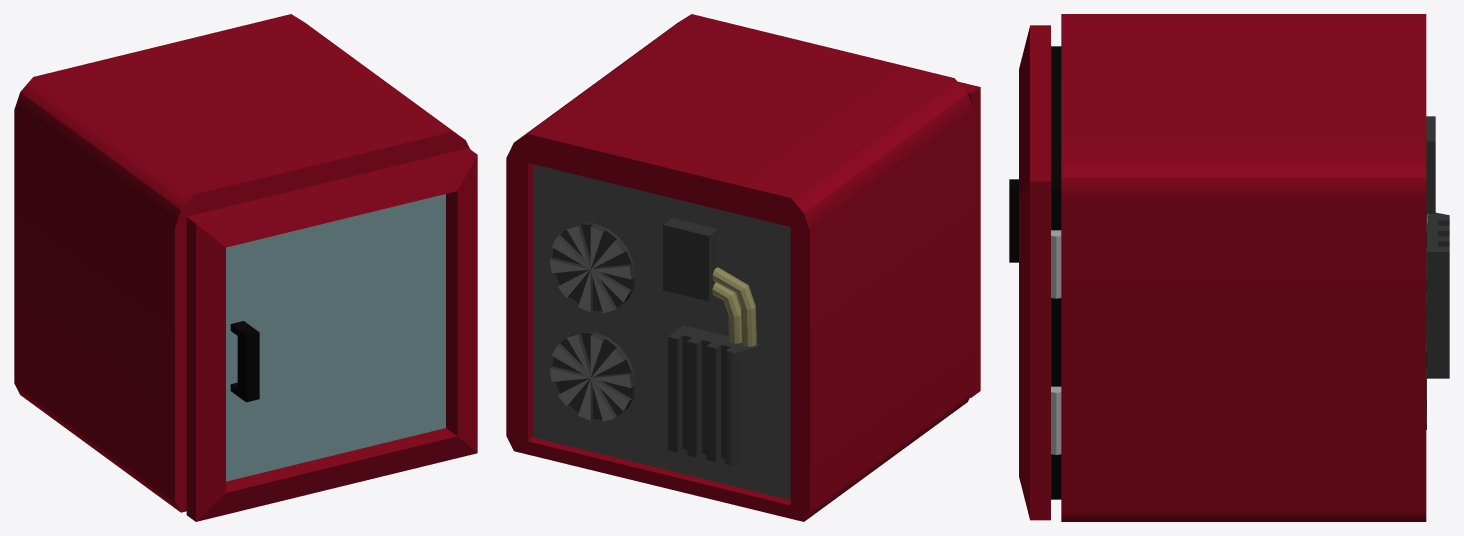
File: SM_MiniNevera.fbx
3 views of the same model, side by side, from view 1: azimuth 30°, elevation 25°; view 2: azimuth 150°, elevation 25°; view 3: azimuth 270°, elevation 25° (orthographic). The views are drawn at different scales.
Visible parts, largest first — view 1: pCube1, pCube4; view 2: pCube1, pCube2, pCylinder1, pasted__pCylinder1, pCube3, pasted__pTorus1, pTorus1; view 3: pCube1, pCube2, pCube3, pCube4, pCylinder2, pasted__pCylinder2.
Part boxes in pixels (left/top/right/bottom): pCube1: left=14, top=14, right=477, bottom=521; pCube4: left=230, top=321, right=259, bottom=402; pCube1: left=506, top=14, right=980, bottom=521; pCube2: left=668, top=325, right=760, bottom=466; pCylinder1: left=549, top=331, right=635, bottom=421; pasted__pCylinder1: left=549, top=222, right=635, bottom=313; pCube3: left=663, top=218, right=718, bottom=301; pasted__pTorus1: left=712, top=267, right=756, bottom=346; pTorus1: left=712, top=282, right=741, bottom=343; pCube1: left=1019, top=14, right=1426, bottom=521; pCube2: left=1426, top=212, right=1449, bottom=378; pCube3: left=1426, top=116, right=1435, bottom=213; pCube4: left=1009, top=179, right=1018, bottom=262; pCylinder2: left=1051, top=386, right=1061, bottom=454; pasted__pCylinder2: left=1051, top=230, right=1061, bottom=298.
Bounding box in the file's own units: 4.15 × 4.37 × 4.68.
